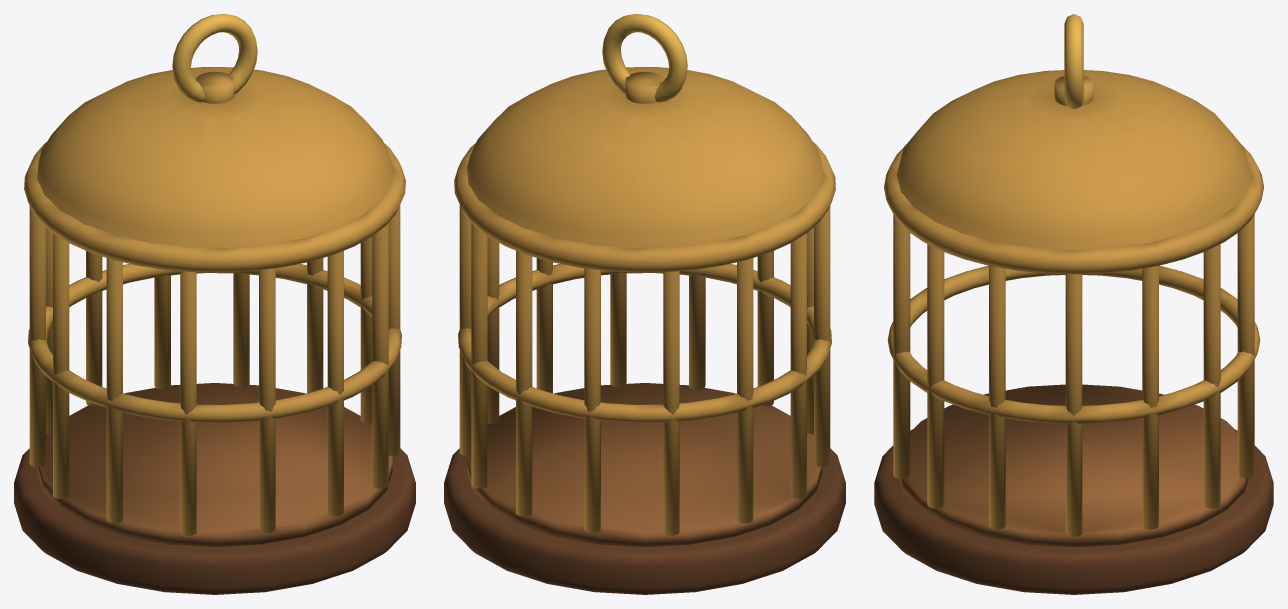
Rendered from col_axolotl_cage.glb.
The picture shows the model from 3 angles, left to right: view 1: azimuth 30°, elevation 25°; view 2: azimuth 150°, elevation 25°; view 3: azimuth 270°, elevation 25°; orthographic projection.
Visible parts, largest first — view 1: col_axolotl_cage; view 2: col_axolotl_cage; view 3: col_axolotl_cage.
Boxes of the visible parts, bbox=[...] form: col_axolotl_cage: bbox=[14, 14, 415, 594]; col_axolotl_cage: bbox=[444, 14, 845, 594]; col_axolotl_cage: bbox=[874, 14, 1273, 594].
Bounding box in the file's own units: 0.9123 × 1.25 × 0.9123.
